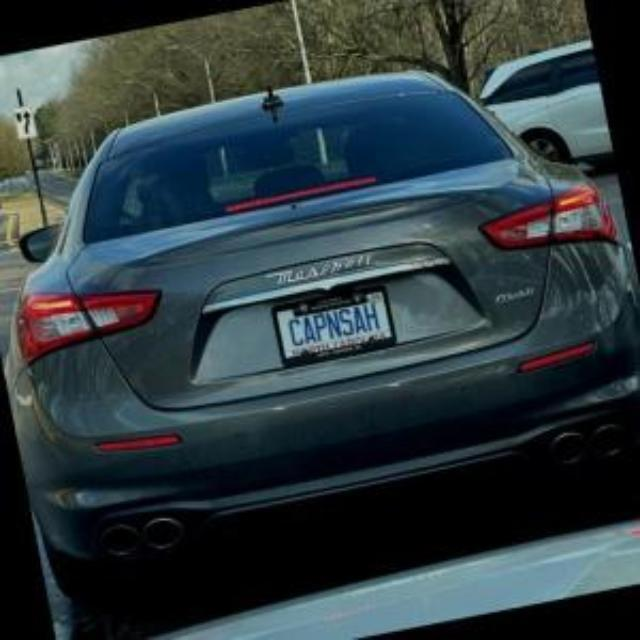License Plate: (270, 282, 398, 367)
